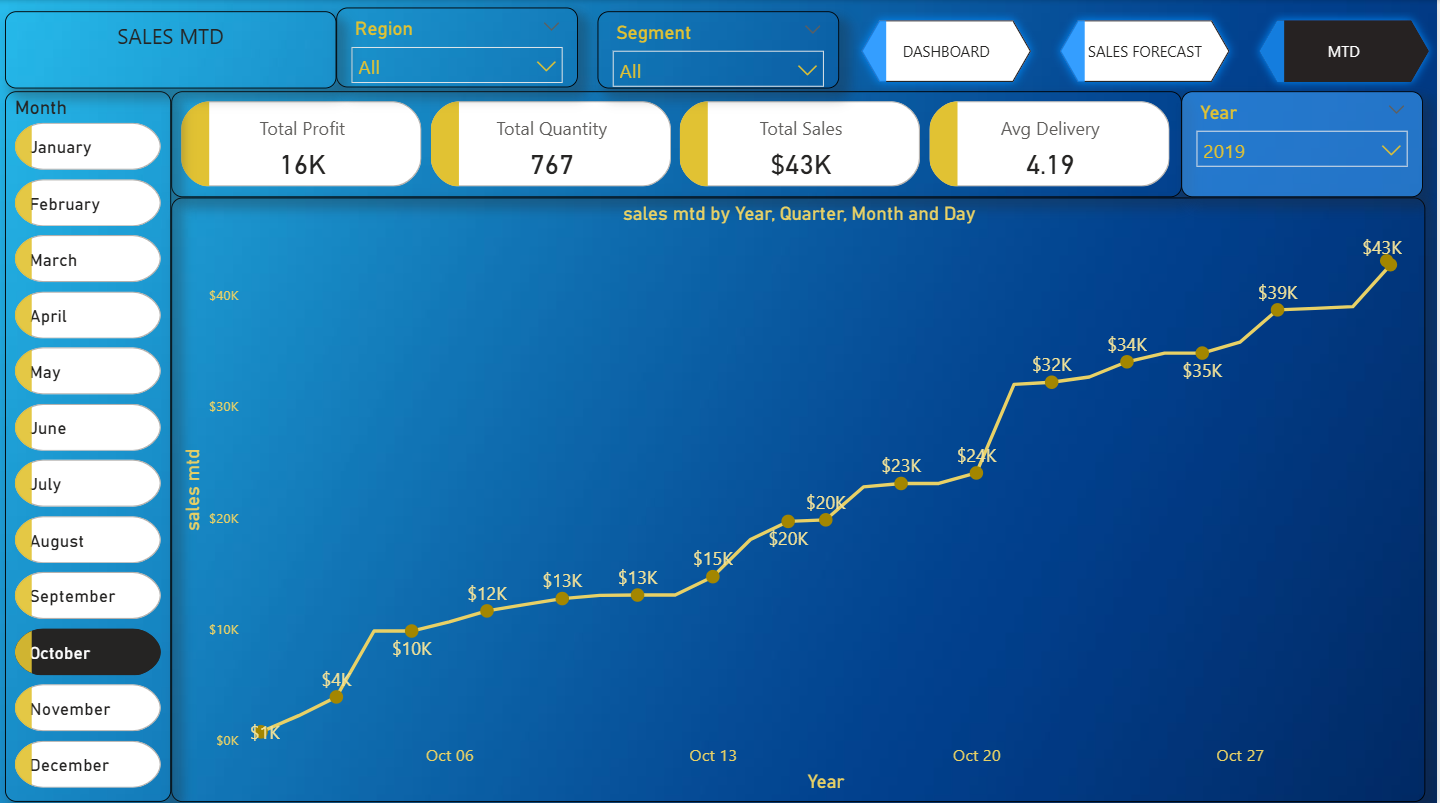

The page's visual inventory and layout, read from the dashboard file:
{"tool":"powerbi","page":{"name":"MTD","canvas":[1280,720],"ordinal":2},"visuals":[{"type":"pageNavigator","box":[758.8,9.6,521.4,71.4],"z":0},{"type":"cardVisual","fields":{"Data":["Sum(Sheet1.Profit)","Sum(Sheet1.Quantity)","Sum(Sheet1.Sales)","Avg(Sheet1.AVG DELIVERY)"]},"box":[152.3,81,900.2,94.7],"z":1000},{"type":"lineChart","fields":{"Y":["Sheet1.sales mtd"],"Category":["Sheet1.Order Date.Variation.Date Hierarchy.Year","Sheet1.Order Date.Variation.Date Hierarchy.Quarter","Sheet1.Order Date.Variation.Date Hierarchy.Month","Sheet1.Order Date.Variation.Date Hierarchy.Day"]},"box":[152.3,175.6,1117,538],"z":2000},{"type":"advancedSlicerVisual","fields":{"Values":["Sheet1.Order Date.Variation.Date Hierarchy.Month"]},"box":[4.1,81,148.2,632.6],"z":3000},{"type":"slicer","fields":{"Values":["Sheet1.Order Date.Variation.Date Hierarchy.Year"]},"box":[1052.5,81,215.4,94.7],"z":4000},{"type":"slicer","fields":{"Values":["Sheet1.Region"]},"box":[299.1,6.9,215.4,71.4],"z":5000},{"type":"slicer","fields":{"Values":["Sheet1.Segment"]},"box":[532.4,9.6,215.4,68.6],"z":6000},{"type":"textbox","box":[4.1,9.6,295,68.6],"z":7000}]}

Visuals, with their boxes in screenshot pixels (x1, y1, x2, y2), scaled from the page's 1280x720 canvas onto the 1440x803 screenshot:
pageNavigator: rect(854, 11, 1439, 90)
cardVisual - Sum(Sheet1.Profit) x Sum(Sheet1.Quantity): rect(171, 90, 1184, 196)
lineChart - Sheet1.sales mtd x Sheet1.Order Date.Variation.Date Hierarchy.Year: rect(171, 196, 1428, 796)
advancedSlicerVisual - Sheet1.Order Date.Variation.Date Hierarchy.Month: rect(5, 90, 171, 796)
slicer - Sheet1.Order Date.Variation.Date Hierarchy.Year: rect(1184, 90, 1426, 196)
slicer - Sheet1.Region: rect(336, 8, 579, 87)
slicer - Sheet1.Segment: rect(599, 11, 841, 87)
textbox: rect(5, 11, 336, 87)
